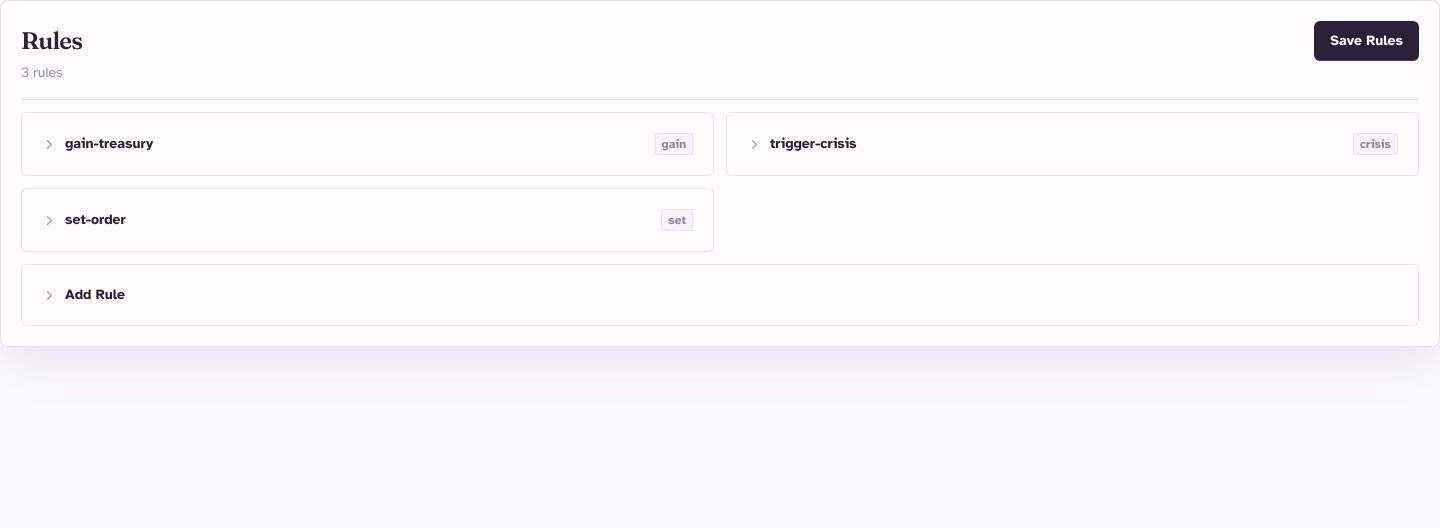
Test: RulesView › expanding Add Rule collapsible reveals the form
Step 1. Click the button "Add Rule" → [95, 294], box [38,281,1402,309]
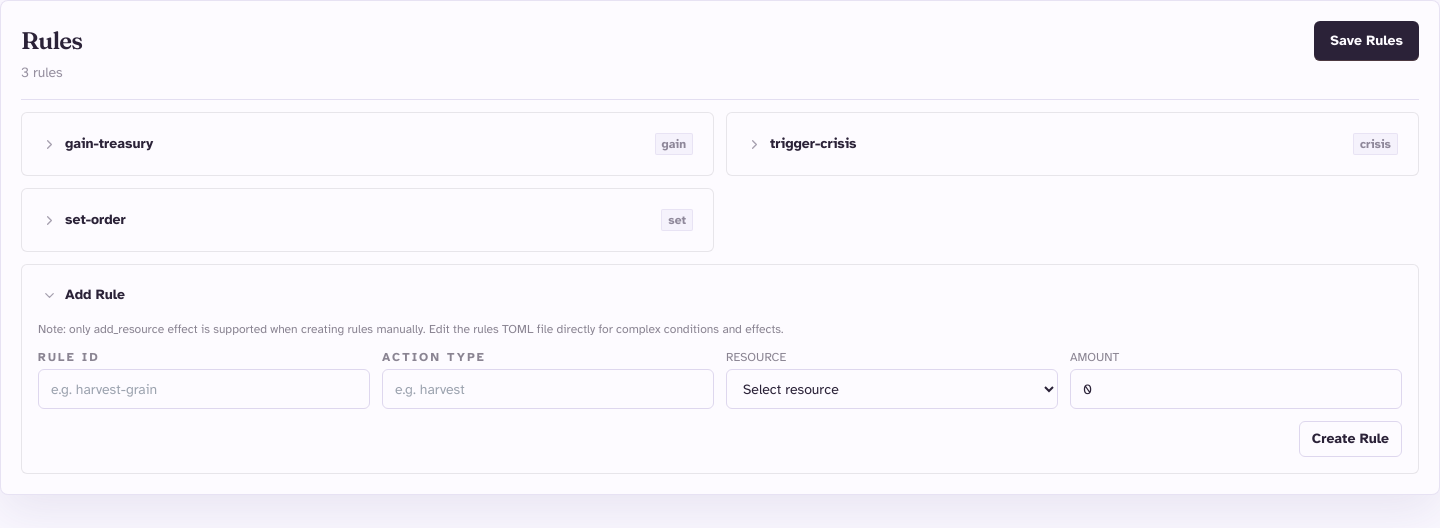
Result: the field named "New rule id" is shown at [38,369,370,409]
Result: the field named "New rule action type" is shown at [382,369,714,409]
Result: the dropdown named "New rule resource" is shown at [726,369,1058,409]
